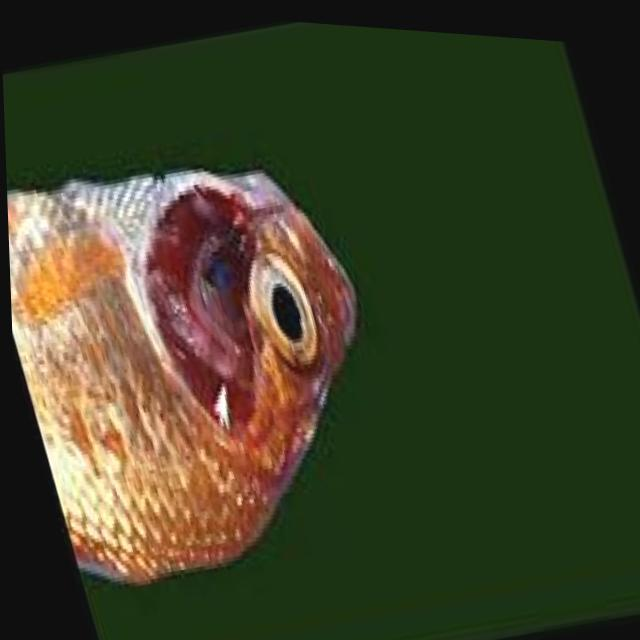Gill Disease: (9, 160, 358, 591)
